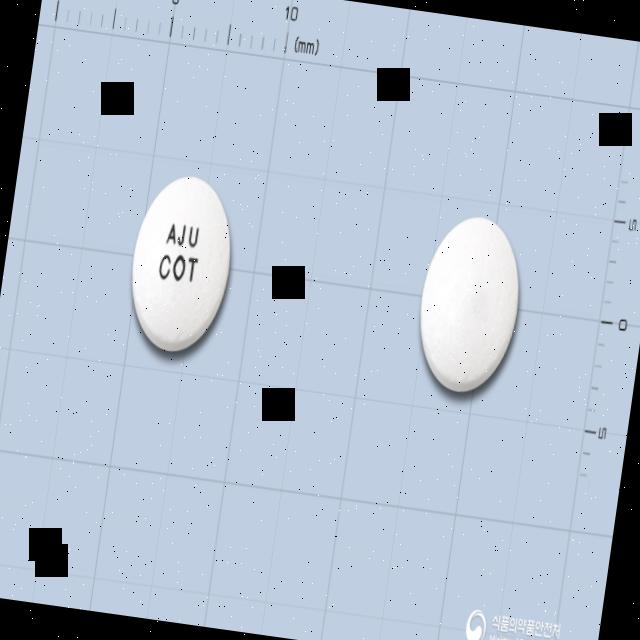Croxacin: (121, 168, 242, 358)
